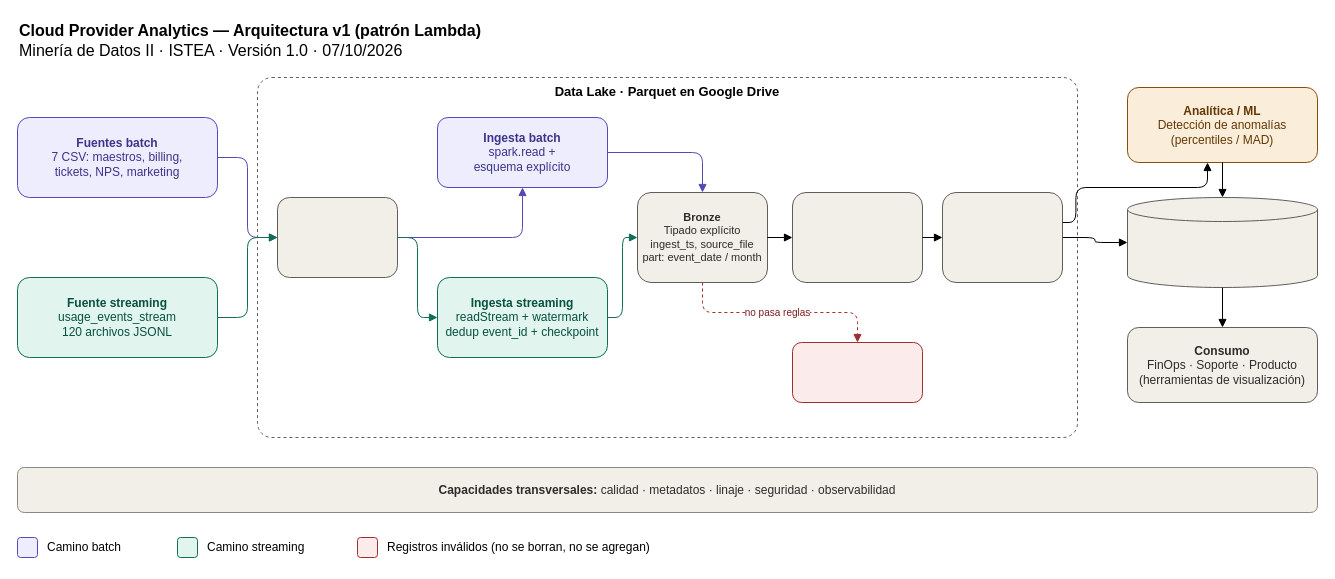
The diagram is 1335 pixels wide and 579 high, and some of its shapes have lost their labels. Each missing label, with the box of its shape:
Cassandra / AstraDB Keyspace + tablas query-first: (1126, 196, 1318, 288)
Gold Marts FinOps, Soporte, Producto: (942, 192, 1062, 282)
Landing Raw inmutable CSV / JSONL: (276, 196, 398, 278)
Quarantine Inválidos + dq_reason: (792, 342, 922, 402)
Silver Limpio, v1+v2 unificado joins + features: (792, 192, 922, 282)
